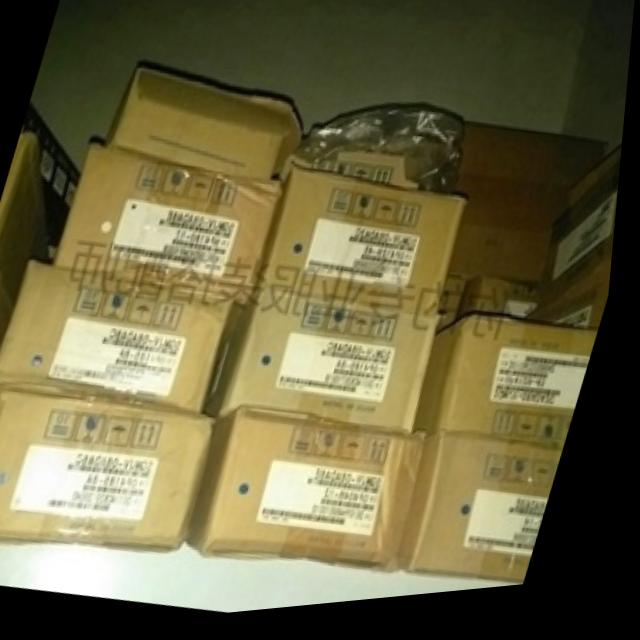box: (196, 406, 437, 578), (0, 264, 246, 416), (0, 387, 219, 556), (60, 147, 287, 308), (213, 294, 447, 440), (263, 166, 465, 323), (405, 437, 567, 592), (422, 321, 601, 461), (105, 69, 305, 183), (450, 188, 566, 296), (545, 171, 625, 306), (459, 130, 610, 200), (0, 131, 58, 298), (533, 254, 619, 340), (564, 153, 626, 231), (459, 285, 541, 329), (0, 260, 23, 373), (441, 288, 469, 342)
